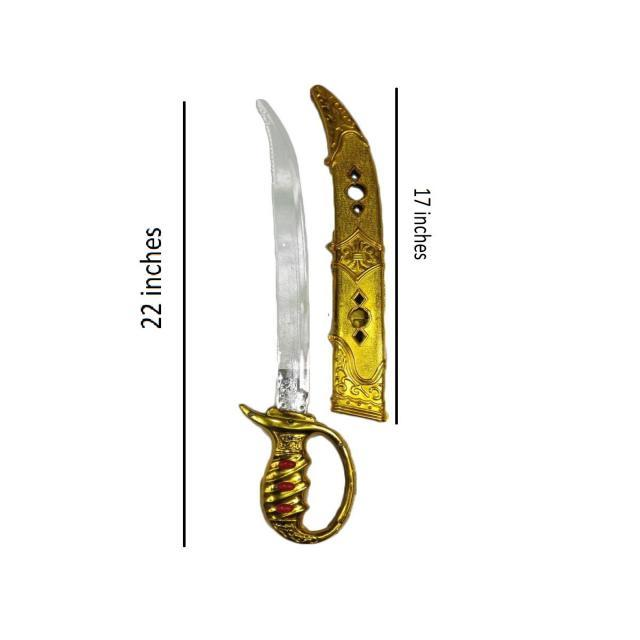cutlass: (245, 95, 349, 562)
scabbard: (316, 76, 407, 423)
